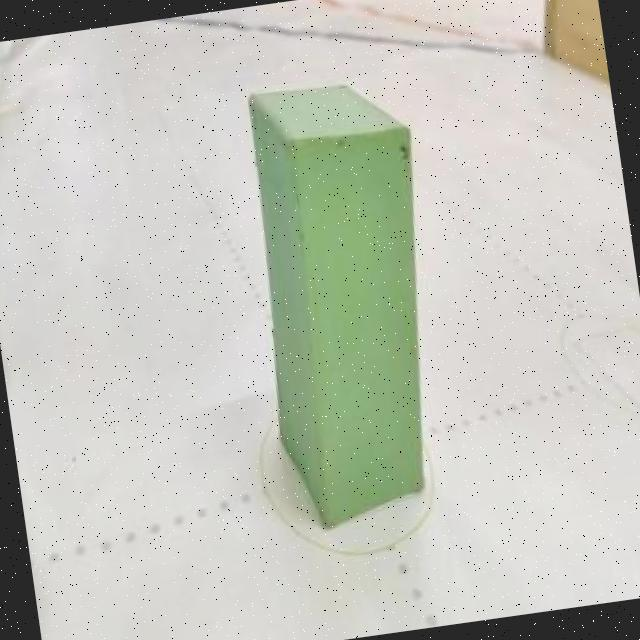greenbox: (226, 70, 467, 540)
